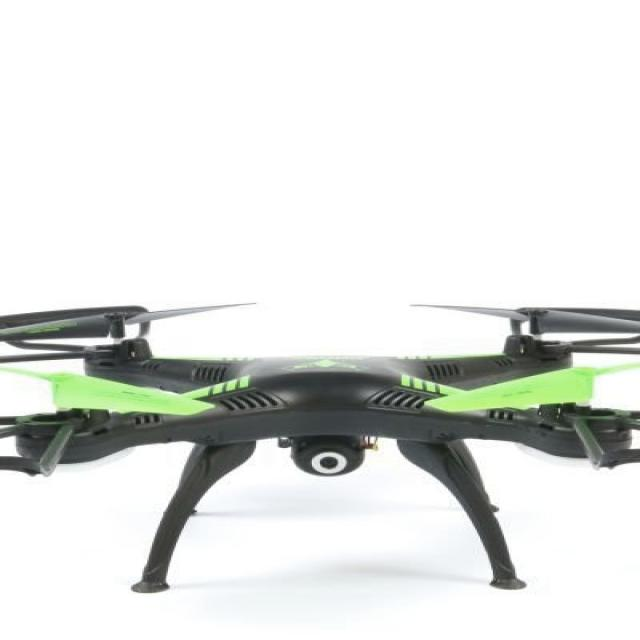drone: (0, 300, 640, 532)
